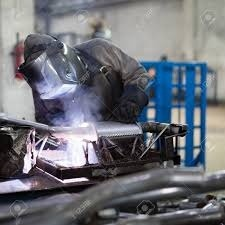person without safety: (18, 30, 158, 126)
